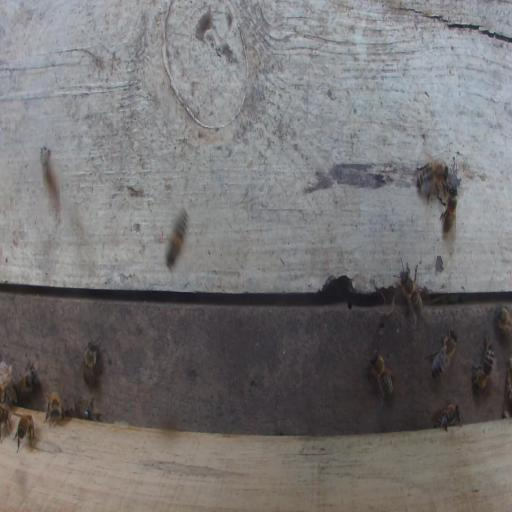bee: (396, 262, 423, 330), (426, 327, 458, 380), (416, 156, 450, 203), (369, 349, 394, 411), (40, 146, 61, 219), (166, 208, 189, 270), (471, 334, 494, 391), (12, 411, 37, 454), (441, 185, 457, 240), (433, 402, 462, 432), (44, 388, 65, 428), (83, 337, 100, 386), (494, 304, 511, 345), (66, 397, 95, 420), (19, 359, 36, 395), (1, 386, 11, 439)
